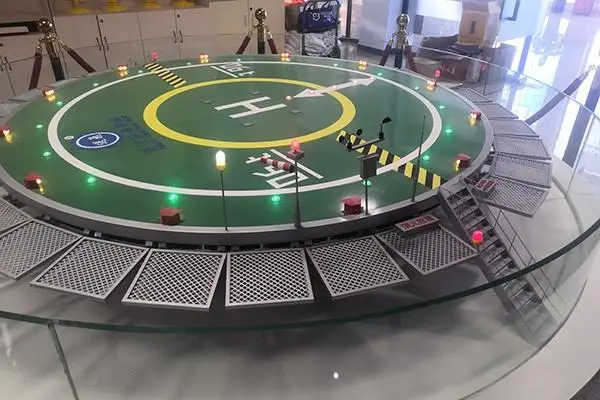Apron: (143, 77, 357, 149)
